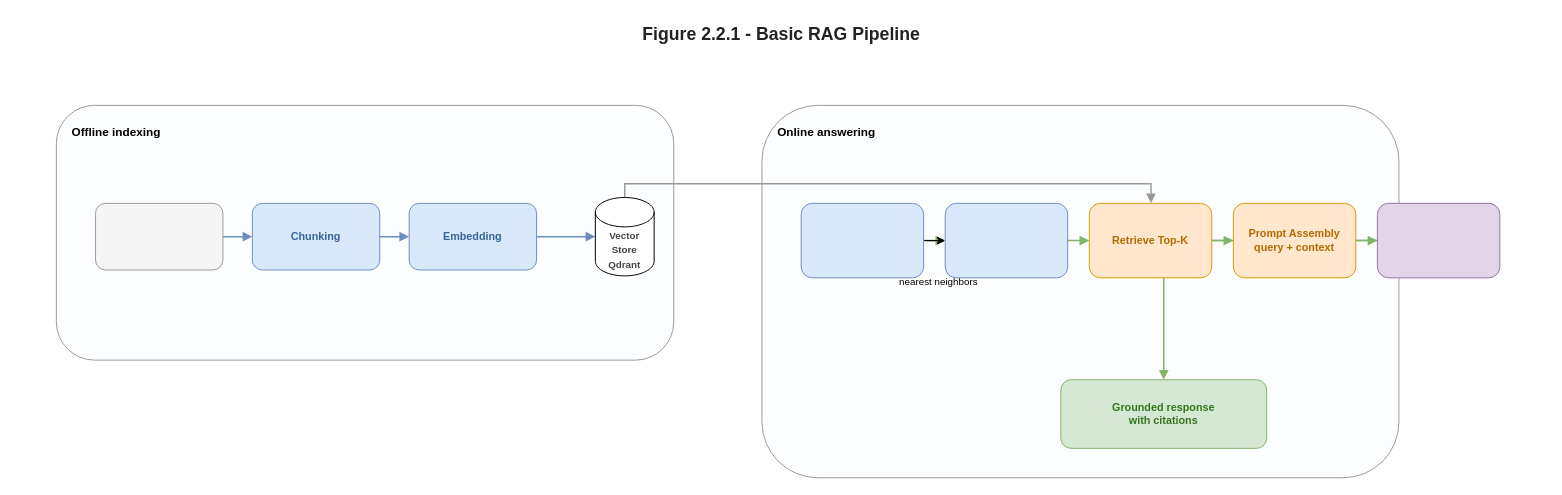
This 1562x495 diagram has some shape labels left out. Each missing label, with the centre of its shape:
Documents: (159,236)
LLM Answer: (1438,240)
Query Embedding: (1006,240)
User Query: (862,240)
